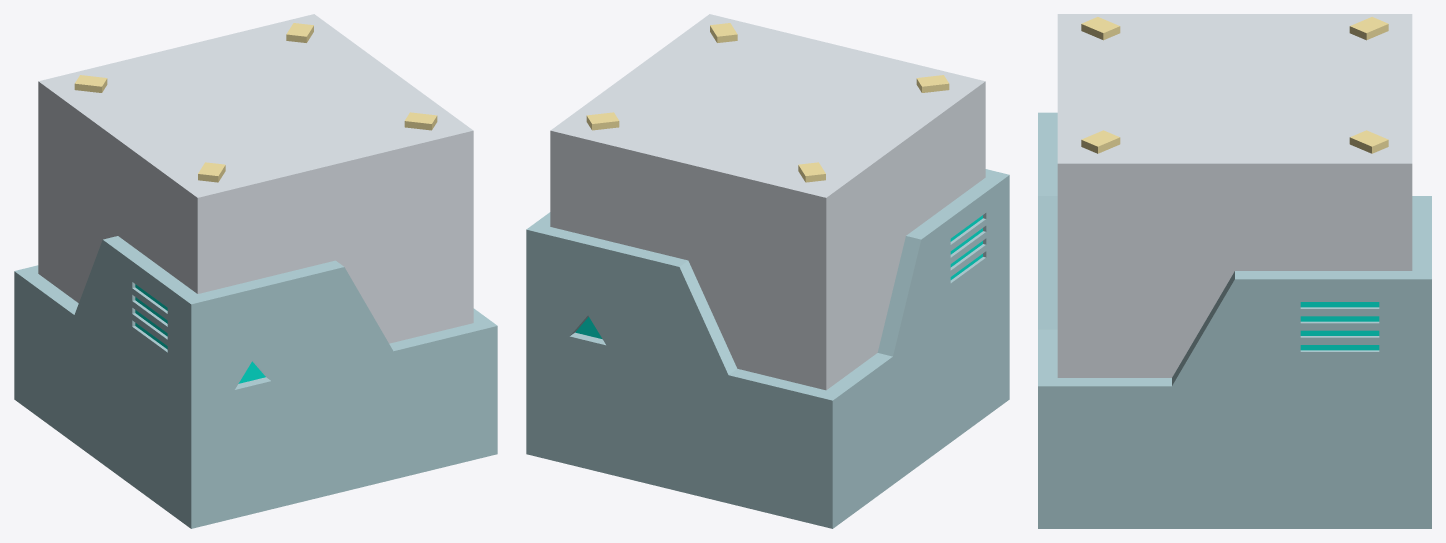
3 renders of one model, left to right at view 1: azimuth 30°, elevation 25°; view 2: azimuth 150°, elevation 25°; view 3: azimuth 270°, elevation 25°, orthographic. The views are drawn at different scales.
Parts seen in each view (by area): view 1: box-b; view 2: box-b; view 3: box-b.
Boxes of the visible parts, x1,y1,x2,y2 form: box-b: (14,14,497,528); box-b: (526,14,1009,528); box-b: (1038,14,1431,528).
Size of the model in its own units: 100 by 102 by 100.
